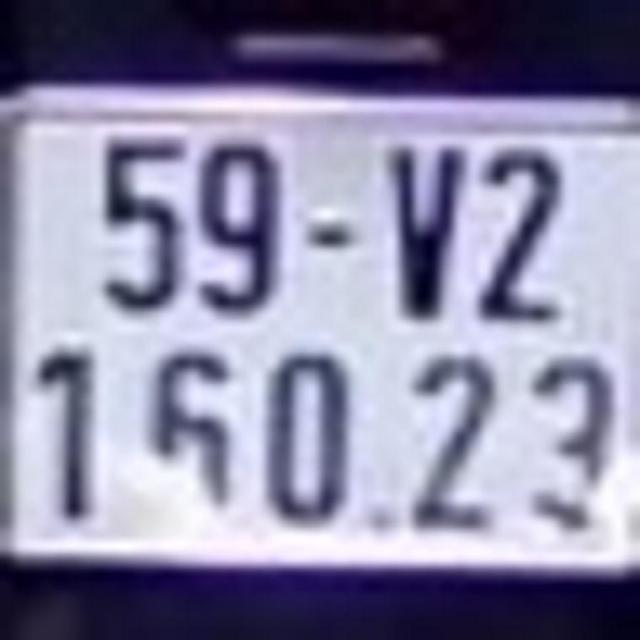0: (266, 350, 348, 526)
1: (36, 344, 91, 524)
2: (478, 146, 564, 328), (414, 354, 496, 533)
3: (530, 355, 620, 536)
5: (104, 134, 184, 308)
6: (147, 342, 229, 532)
9: (194, 143, 282, 314)
V: (388, 142, 460, 318)
